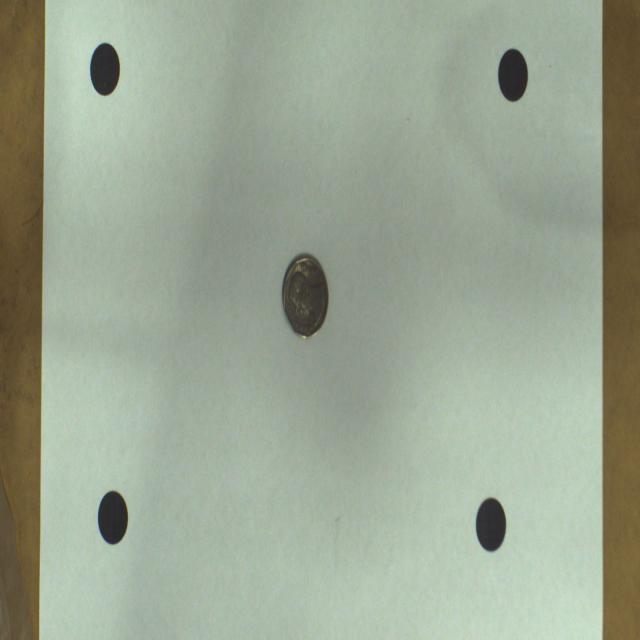head5bath: (282, 256, 329, 336)
space: (98, 491, 129, 544), (475, 498, 506, 551), (90, 42, 120, 96), (498, 49, 528, 102)
